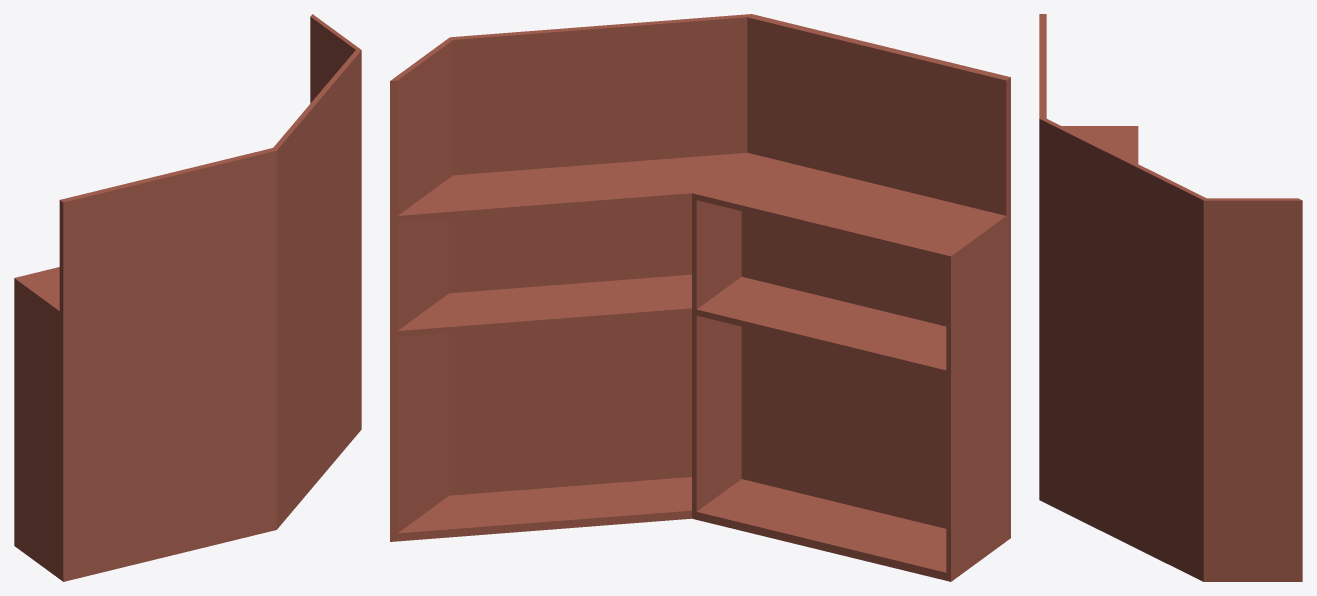
The model's file is mueble.fbx.
3 views of the same model, side by side, from view 1: azimuth 30°, elevation 25°; view 2: azimuth 150°, elevation 25°; view 3: azimuth 270°, elevation 25° (orthographic). The views are drawn at different scales.
Visible parts, largest first — view 1: Cube; view 2: Cube; view 3: Cube.
Boxes of the visible parts, left/top/right/bottom form: Cube: left=14, top=14, right=361, bottom=581; Cube: left=390, top=14, right=1010, bottom=581; Cube: left=1039, top=14, right=1302, bottom=581.
Size of the model in its own units: 178 by 170 by 106.
